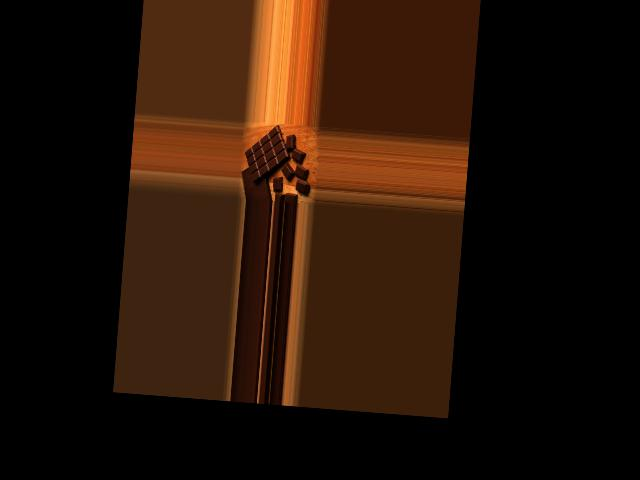chocolate: (242, 124, 294, 185)
